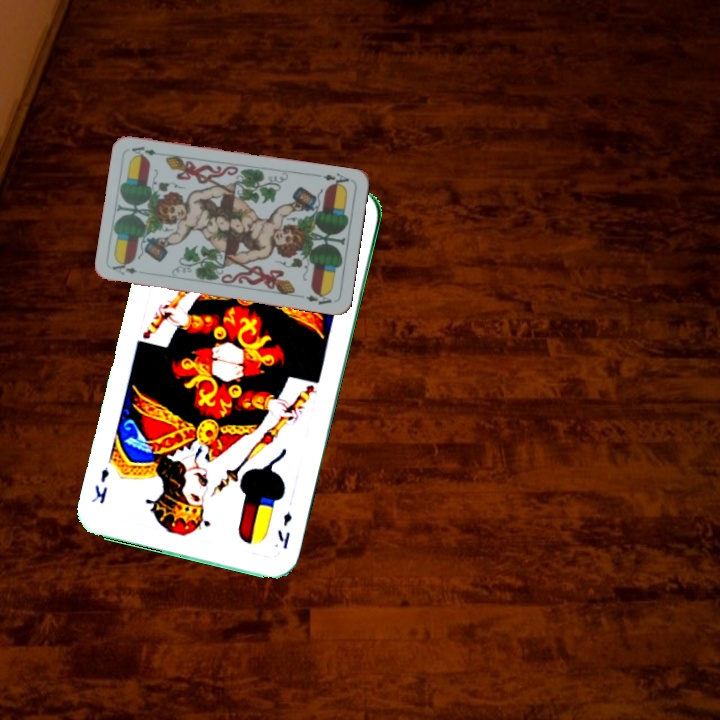EA: (319, 169, 351, 190), (108, 258, 139, 277)
EK: (273, 508, 295, 552)
